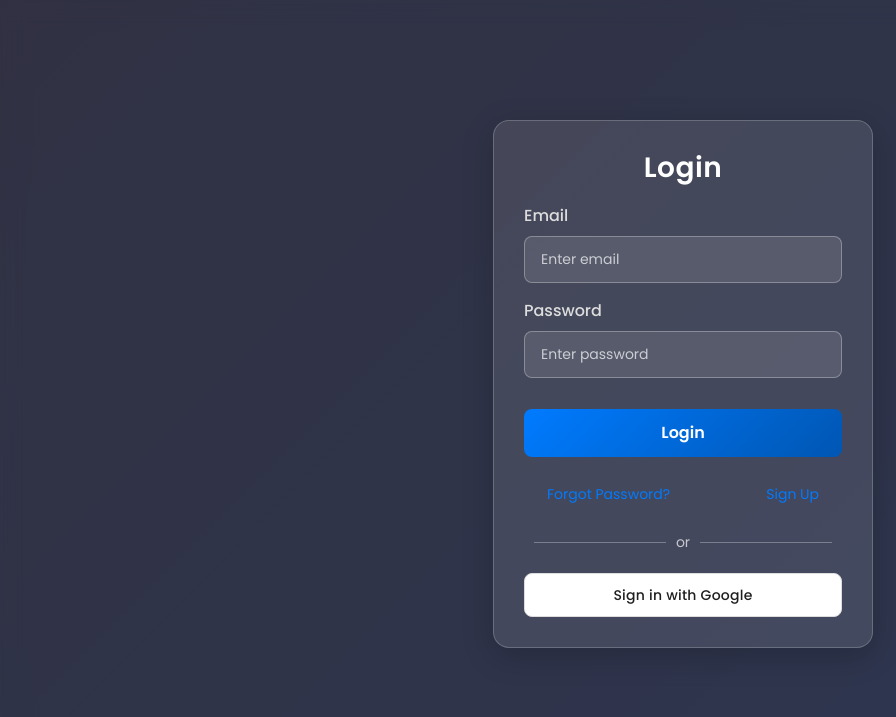
Login Component › shows error message if email is not verified
The image size is (896, 717).
In the field with placeholder "Enter email": (683, 260) [524,236,842,283], type "test@example.com"
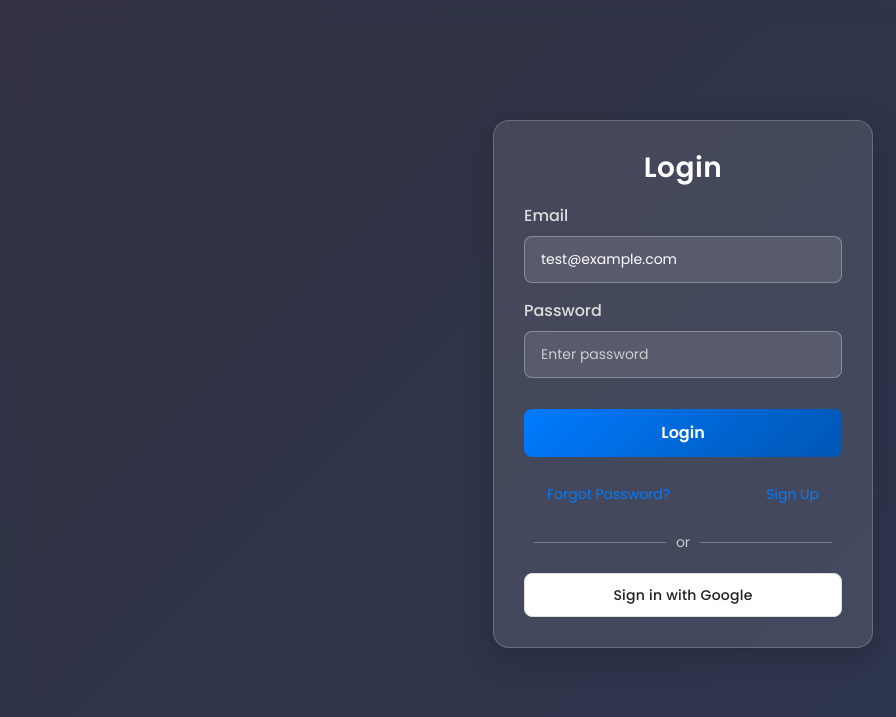
In the password field with placeholder "Enter password": (683, 355) [524,331,842,378], type "password123"
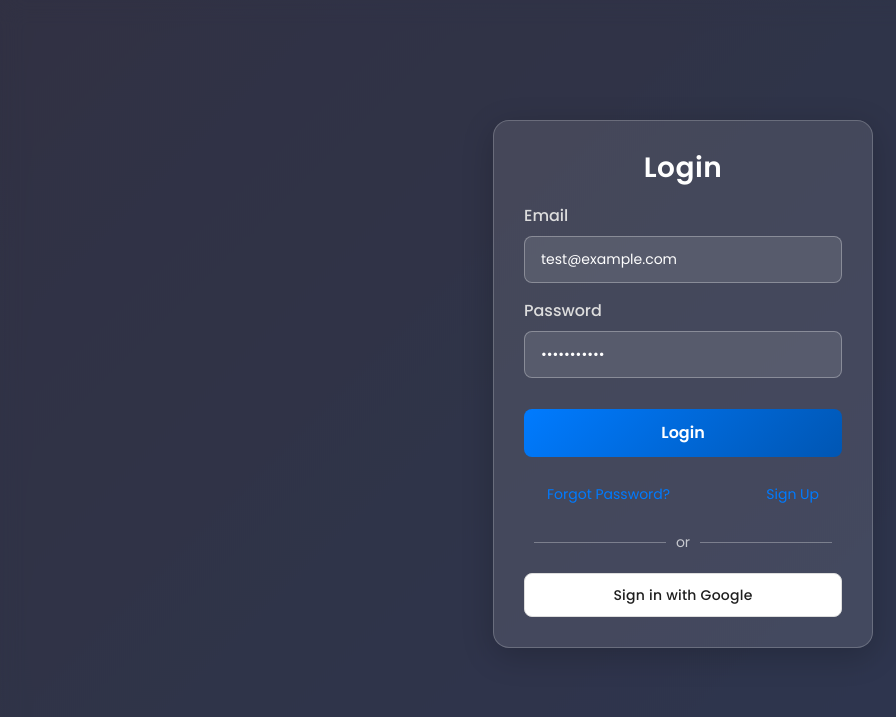
Click the button "Login": (683, 433) [524,409,842,457]
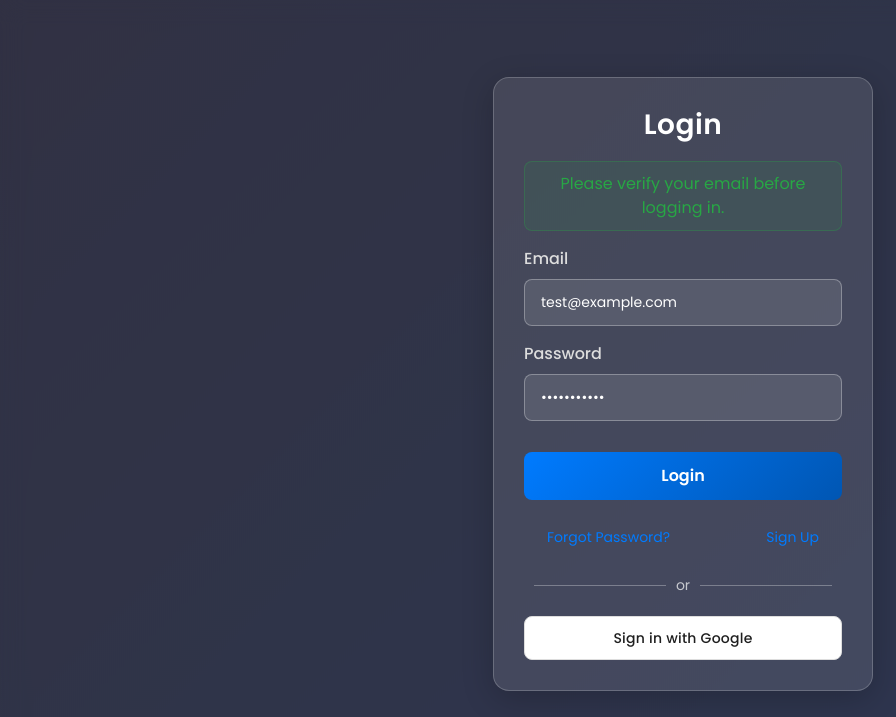
expect the text "Please verify your email before logging in." is shown: met, box [524,161,842,231]
